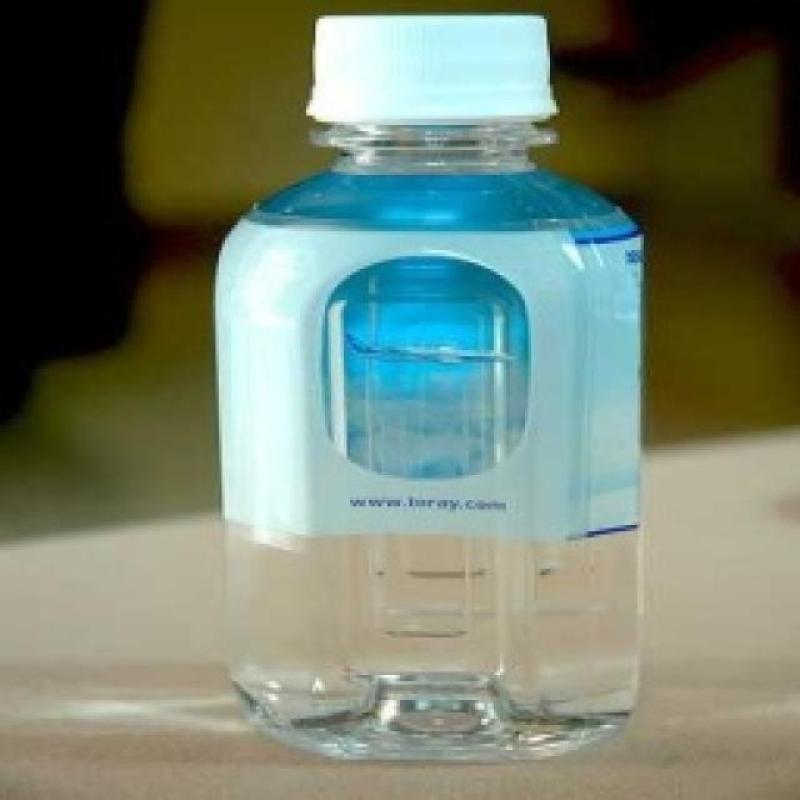botella: (214, 10, 646, 760)
